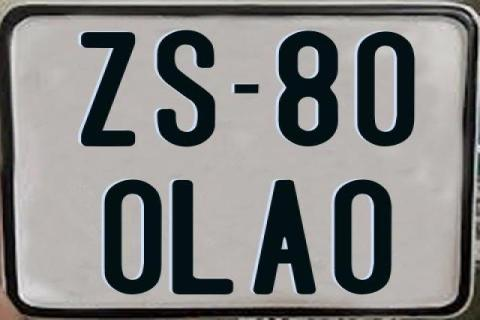0: (275, 30, 341, 146), (334, 177, 394, 296), (104, 178, 164, 294), (355, 30, 413, 148)
A: (252, 180, 319, 298)
L: (172, 178, 236, 292)
S: (157, 30, 216, 152)
Z: (80, 31, 138, 148)
